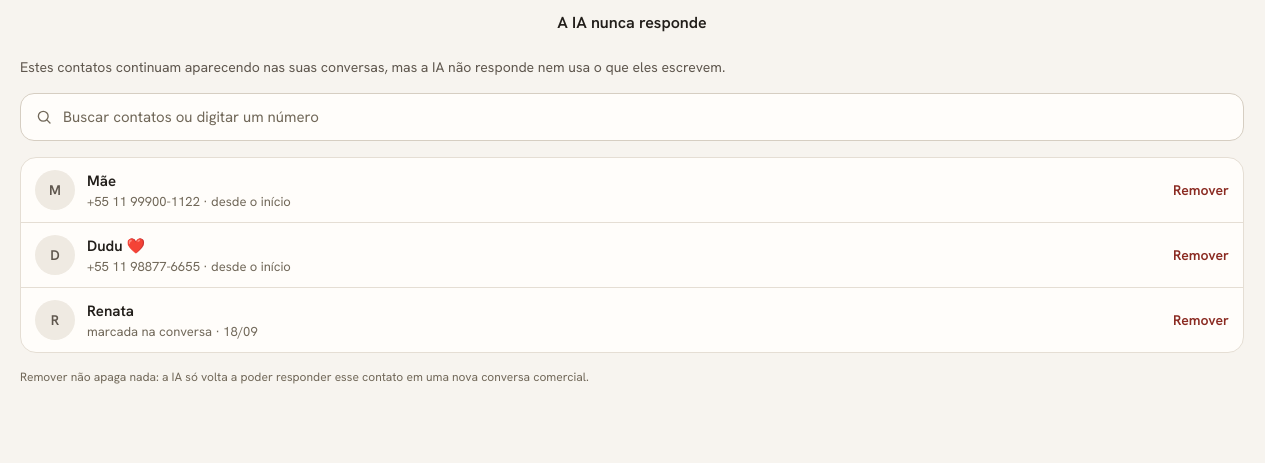
Scenario: Goal140 a busca › sem resultado: Ninguém encontrado, sem Adicionar
This screenshot has width=1265, height=463.
Type "zzz" into the search field labelled "Buscar contatos ou digitar um número" at (646, 117), box [63, 94, 1229, 140]
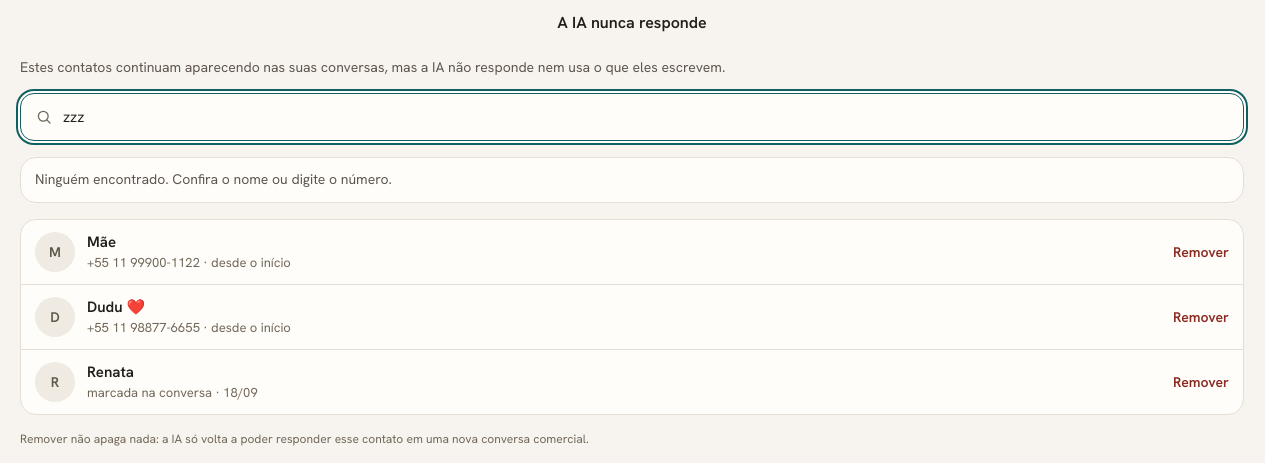
Result: the text "Ninguém encontrado. Confira o nome ou digite o número." is shown at [35, 170, 392, 188]
